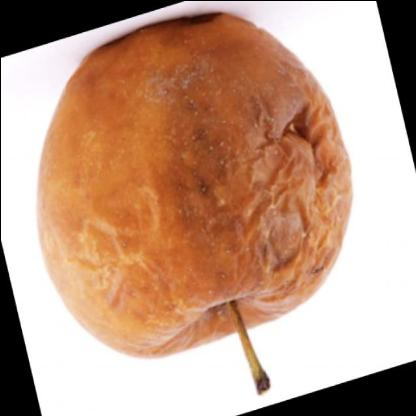defect: (156, 47, 350, 299)
